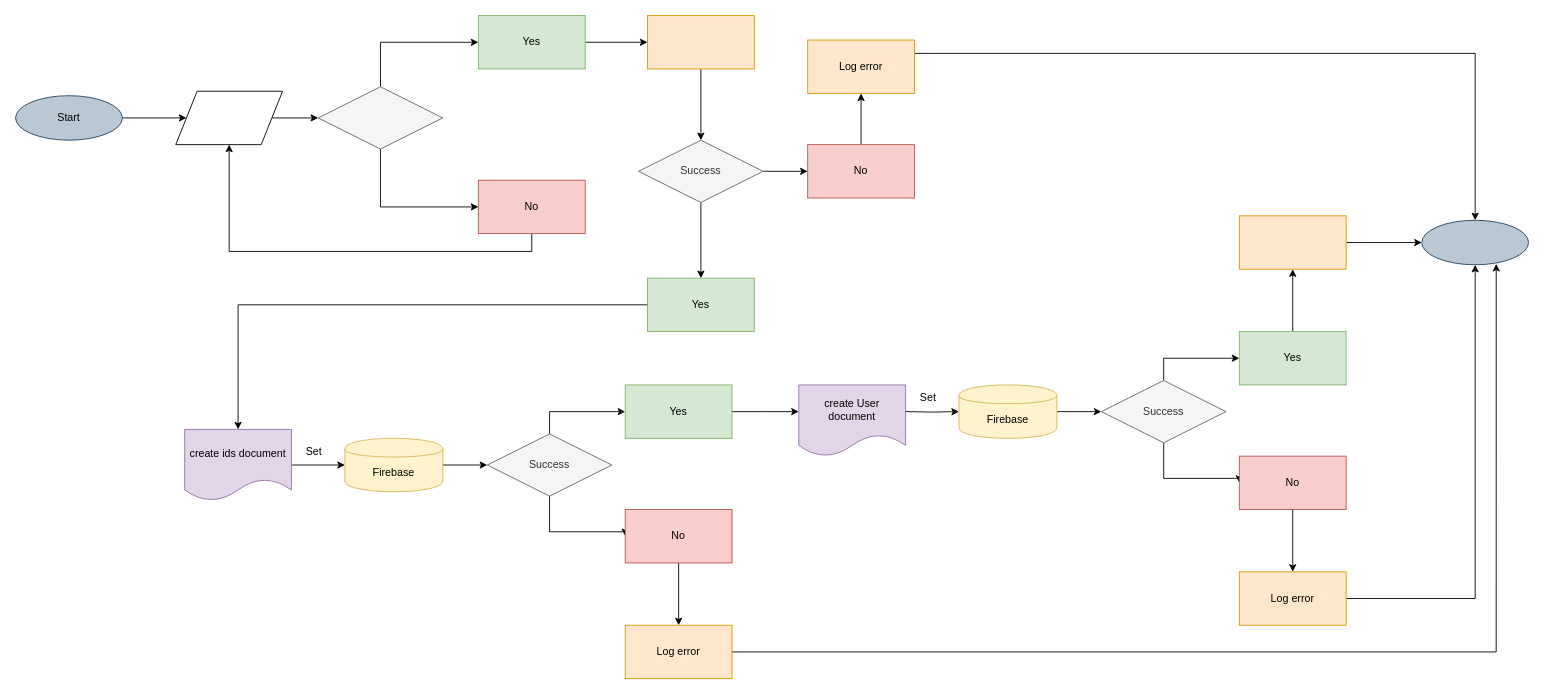
The diagram is 1544 pixels wide and 694 high, and some of its shapes have lost their labels. Each missing label, with the centre of its shape:
"CreateUserWith EmailAndPassword" belongs at (700,42).
"Data valid?" belongs at (380,117).
"Enter data" belongs at (229,117).
"Finish" belongs at (1475,242).
"Login User" belongs at (1292,242).
